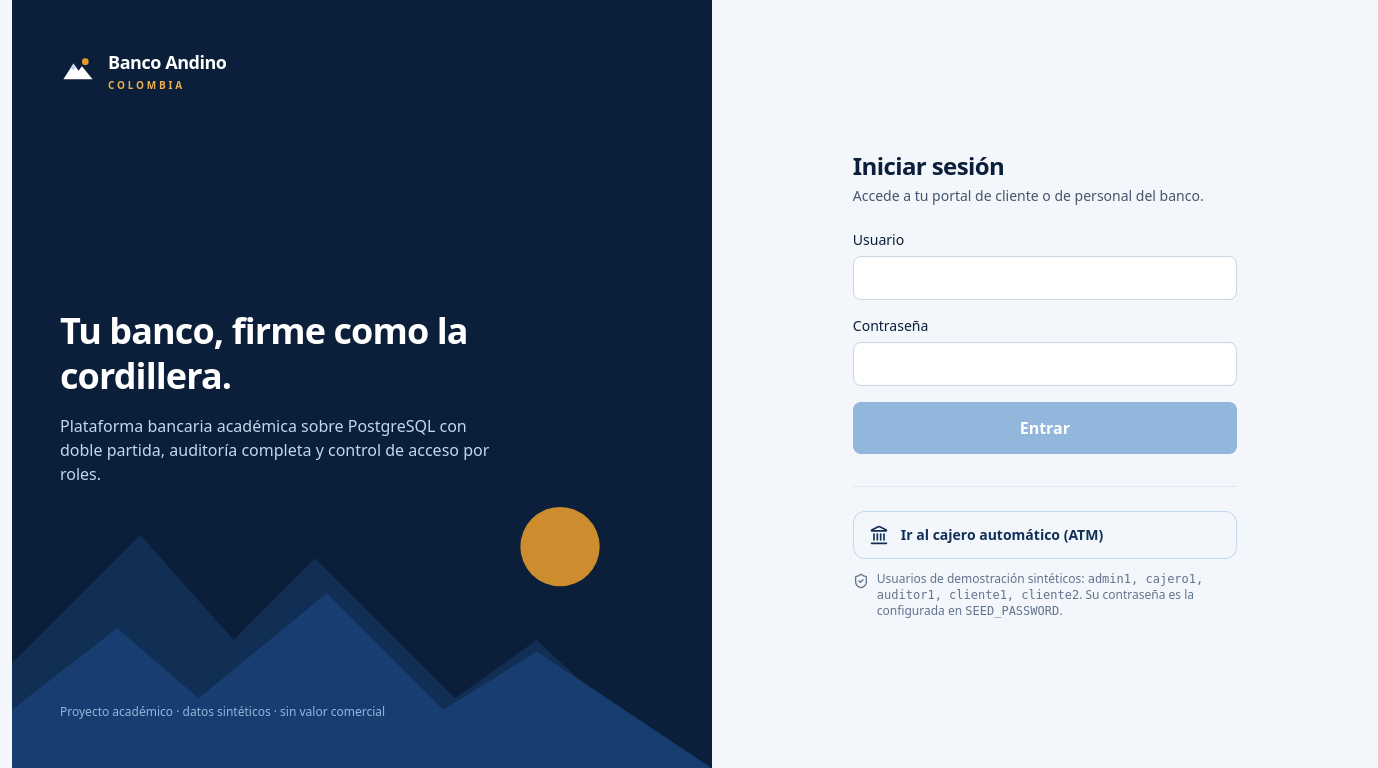
pantalla de login › credenciales incorrectas muestran un mensaje comprensible, sin detalles tecnicos
Type "admin1" into the field labelled "Usuario" at [1045, 278], box left=853, top=256, right=1237, bottom=300
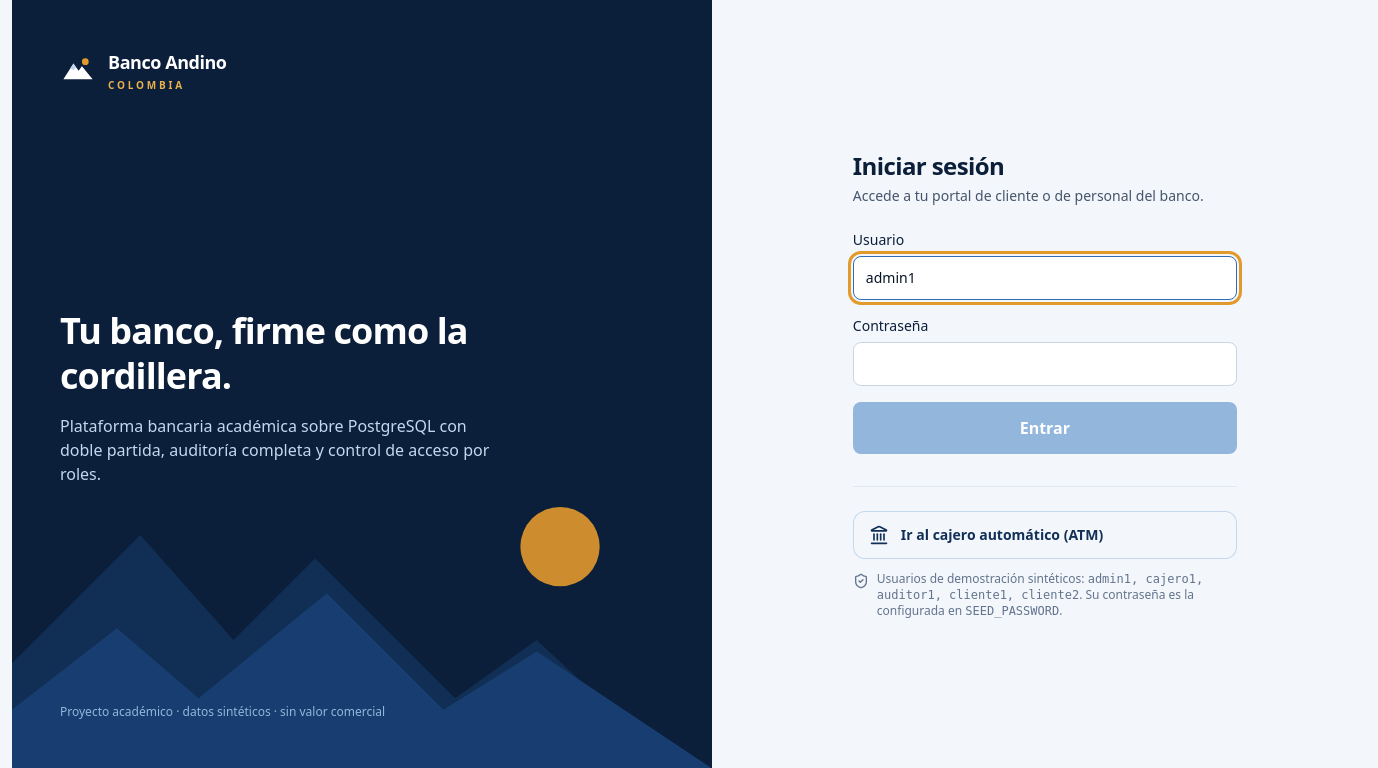
Type "incorrecta" into the password field labelled "Contraseña" at [1045, 364], box left=853, top=342, right=1237, bottom=386
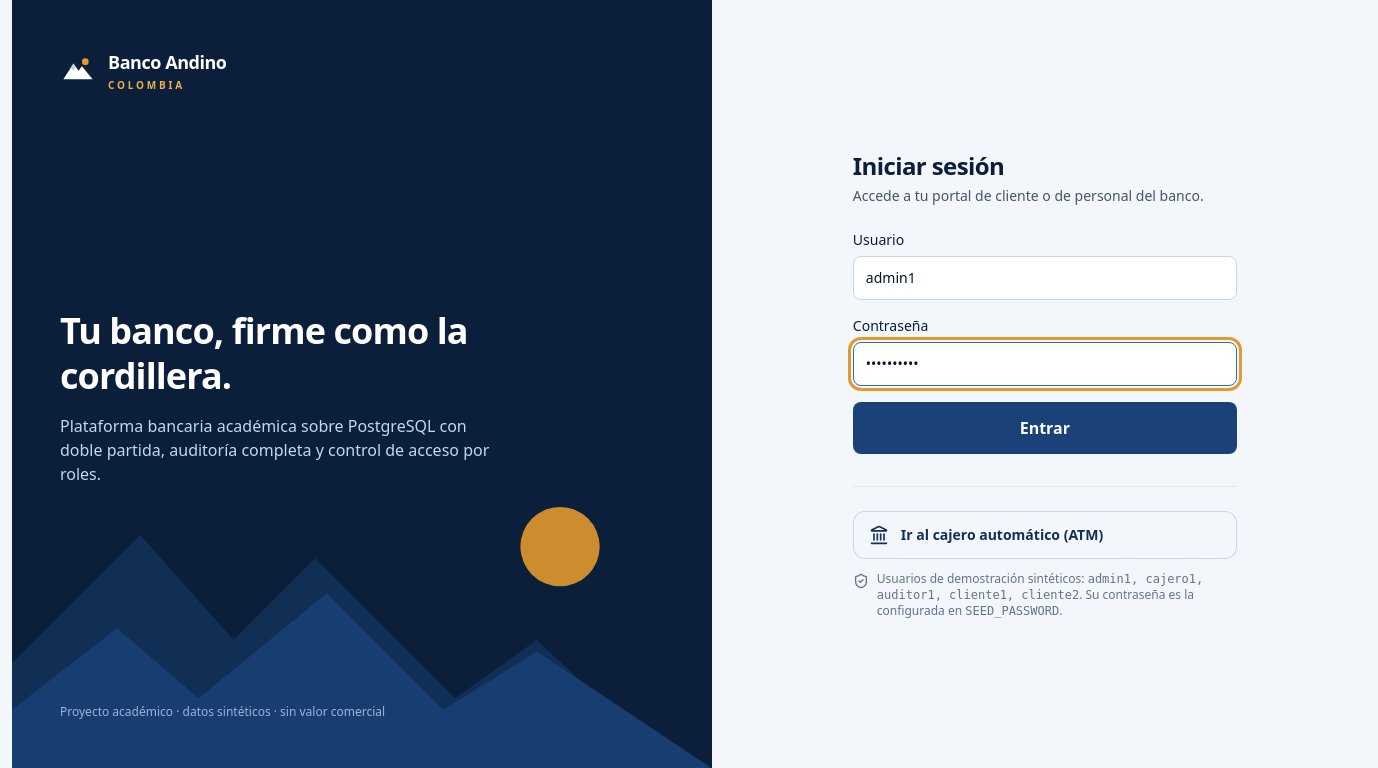
Click the button "Entrar" at [1045, 428], box left=853, top=402, right=1237, bottom=454
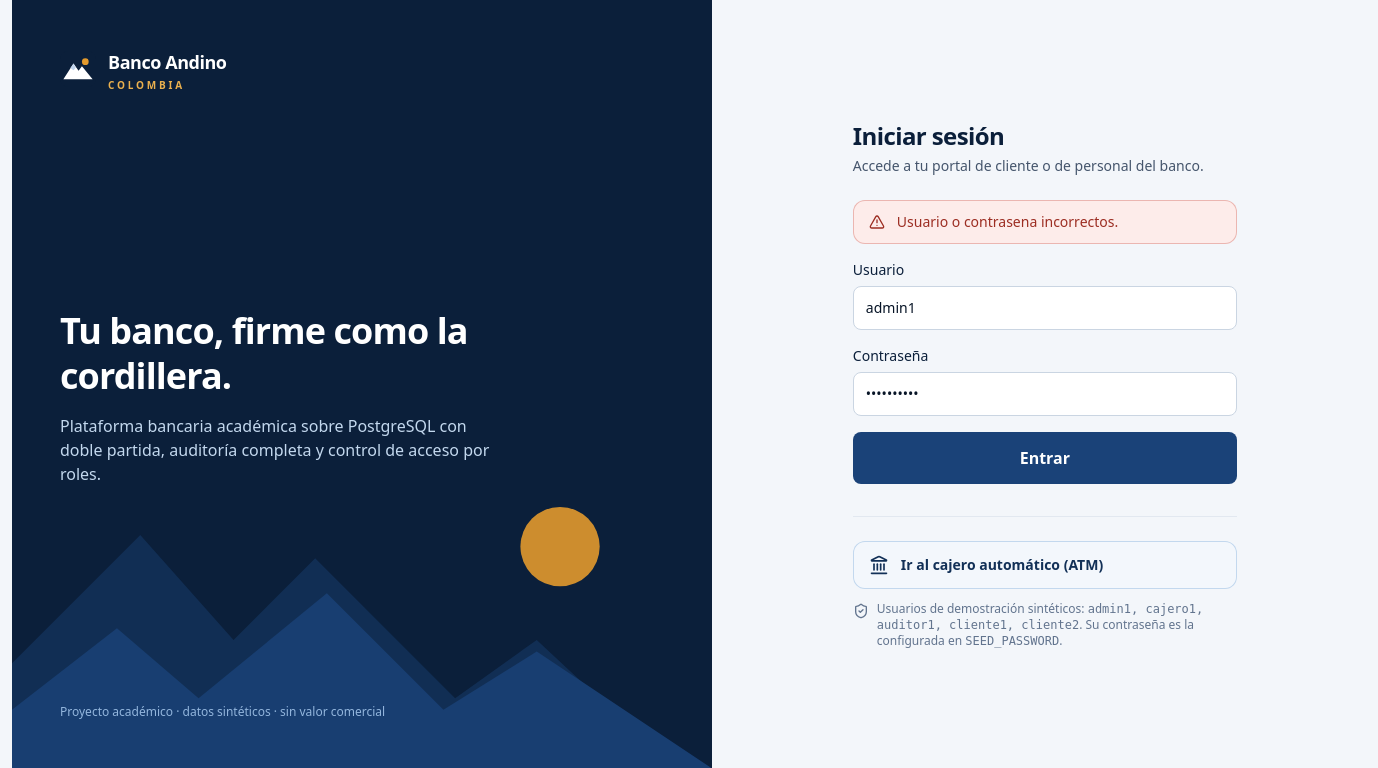
Now the message reads "Usuario o contrasena incorrectos.", box left=897, top=212, right=1118, bottom=230
